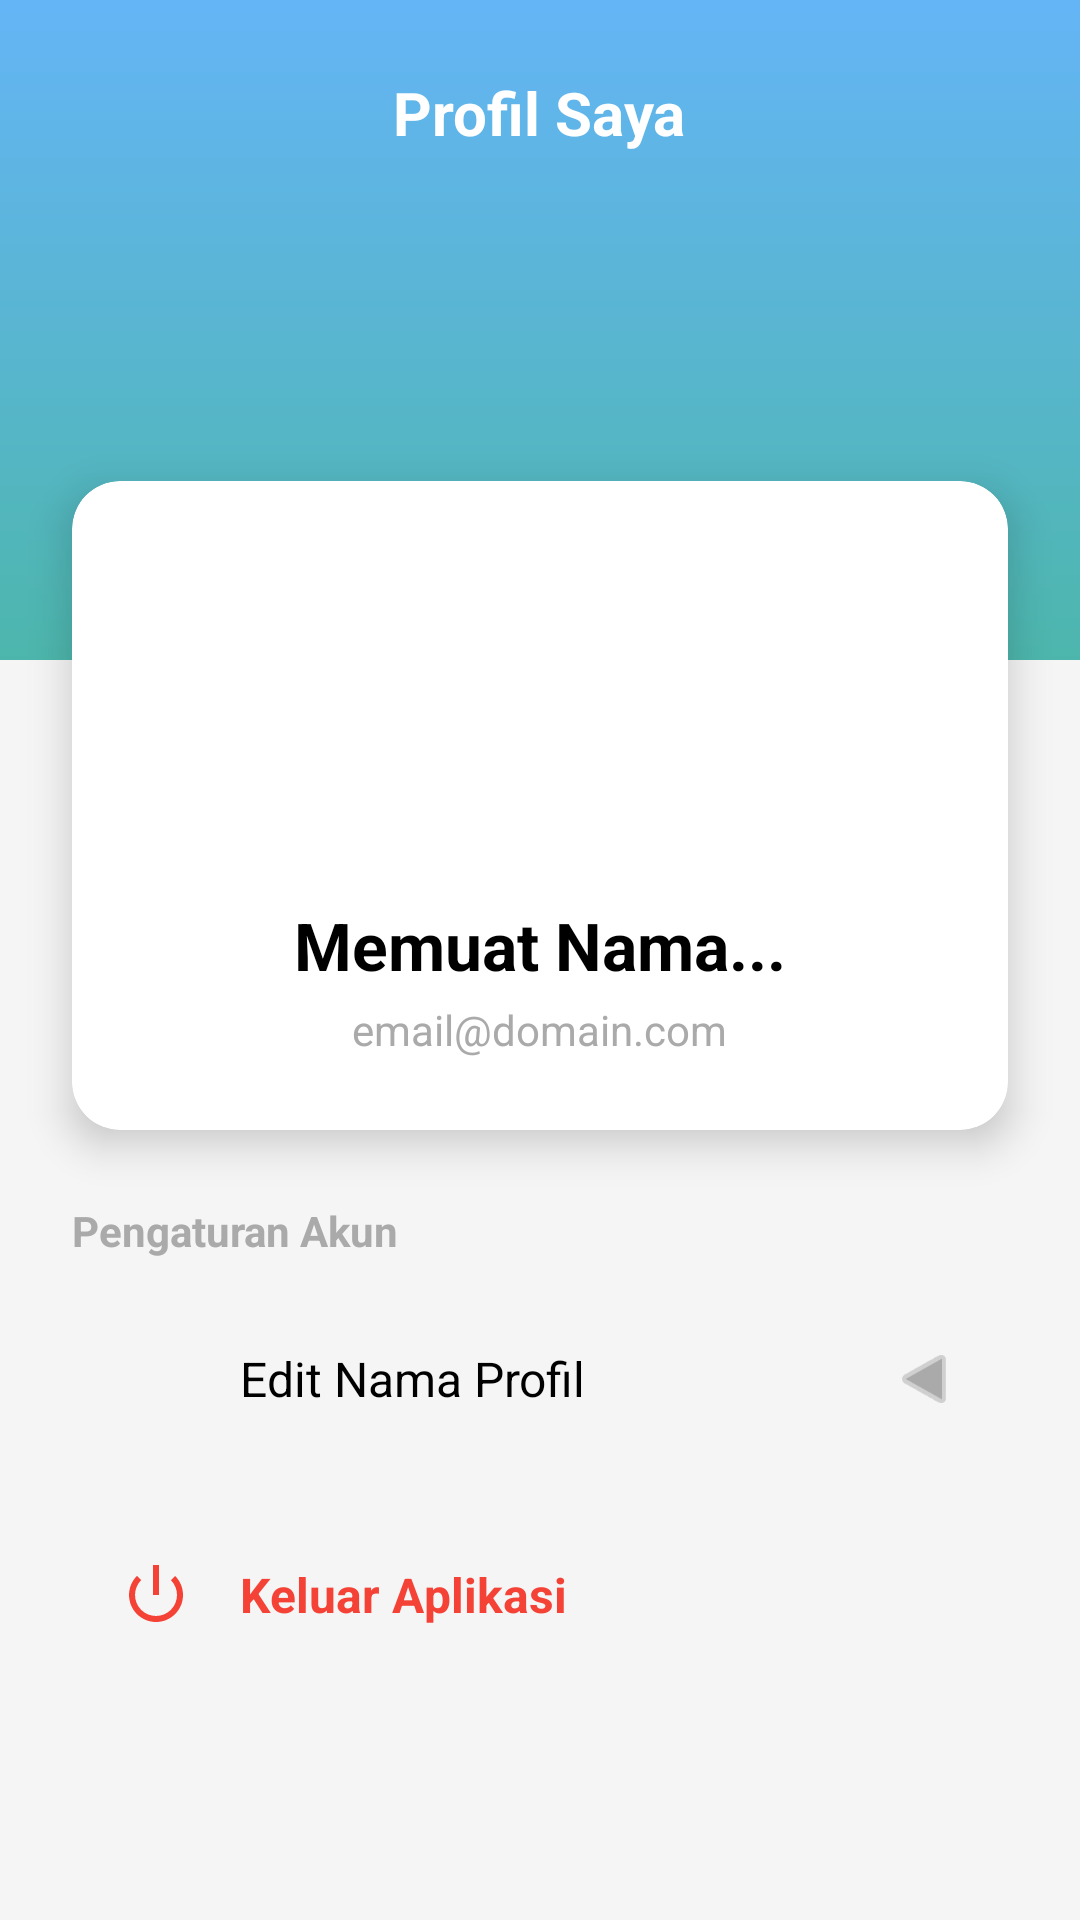

Point at icon controls on the screen. Image size 1080px×1920px, points as (x,y).
lock power off: (156,1593)
